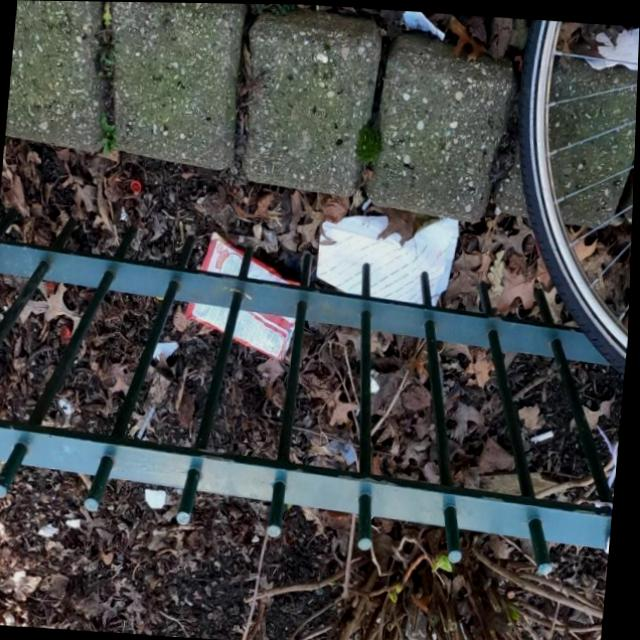Paper: (315, 206, 461, 301), (582, 20, 640, 72)
Plastic: (182, 227, 306, 363)
